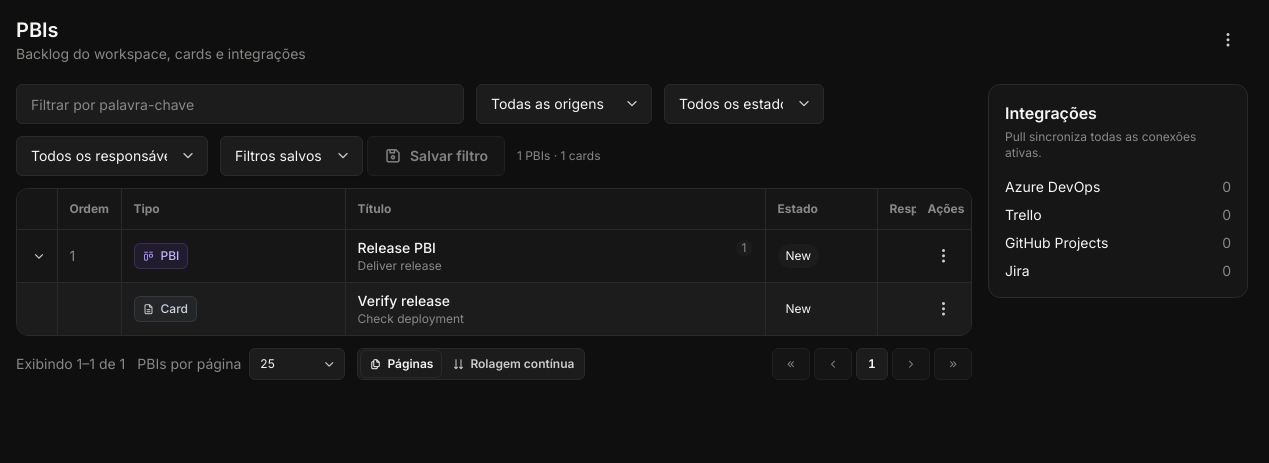
Test: PbiView › shows a hierarchical backlog and pulls every integration
Expected: the text "Release PBI" is shown, [358,238,436,258]
Step 1. Click the button named "Recolher Release PBI" → (39, 256), box [25,242,53,270]
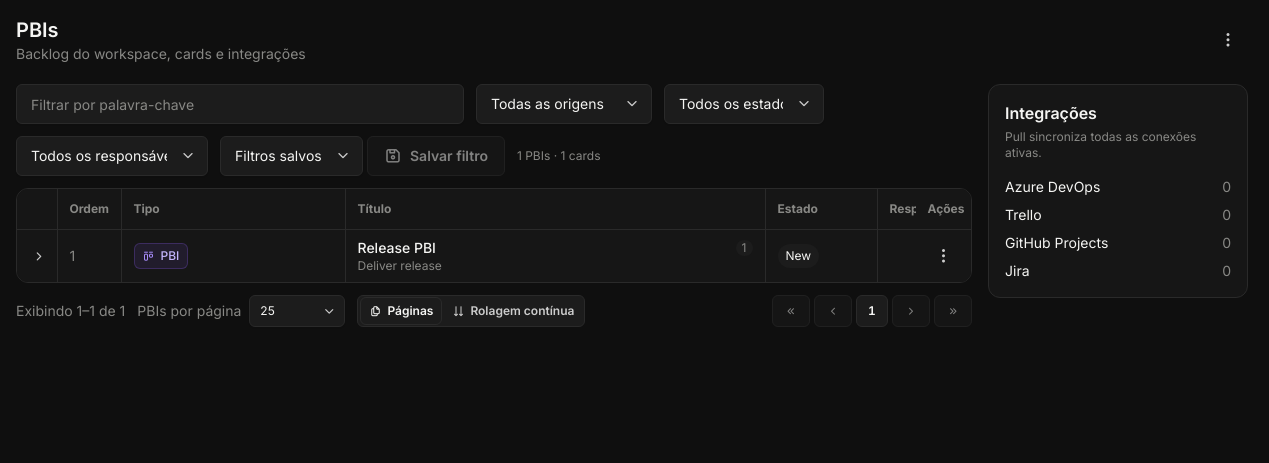
Result: the button "Verify release" is gone
Step 2. Click the button named "Expandir Release PBI" → (39, 256), box [25,242,53,270]
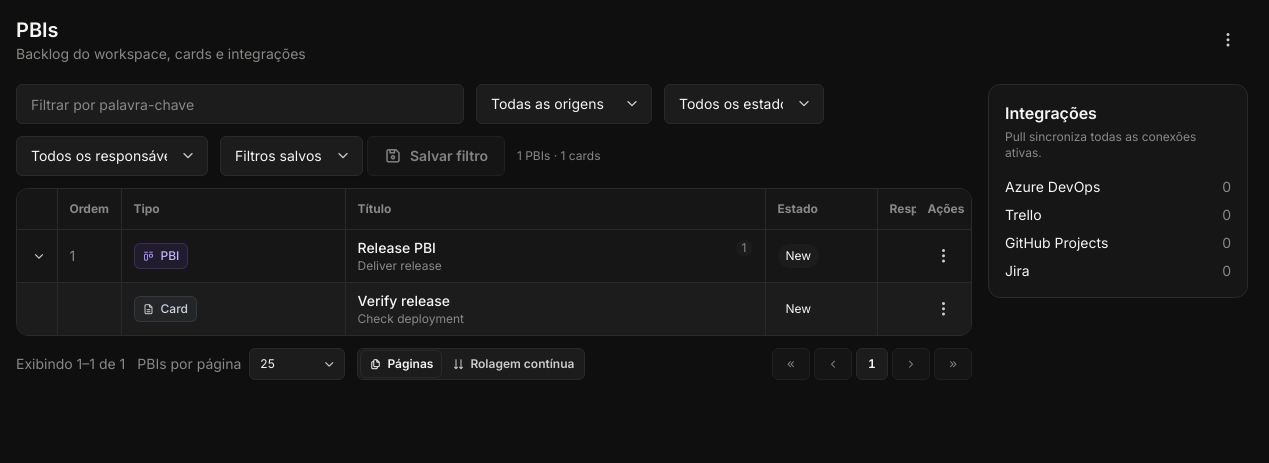
Result: the text "Verify release" is shown at [358,291,450,311]
Step 3. Click the button named "Ações" → (1228, 40), box [1208,20,1248,60]
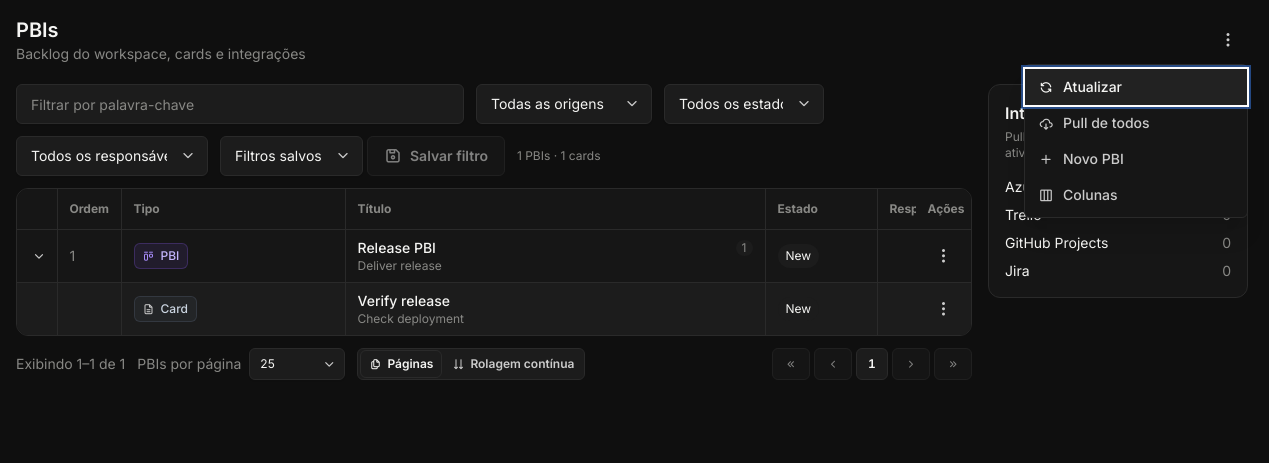
Step 4. Click the menu item "Pull de todos" → (1136, 123), box [1025,105,1247,141]
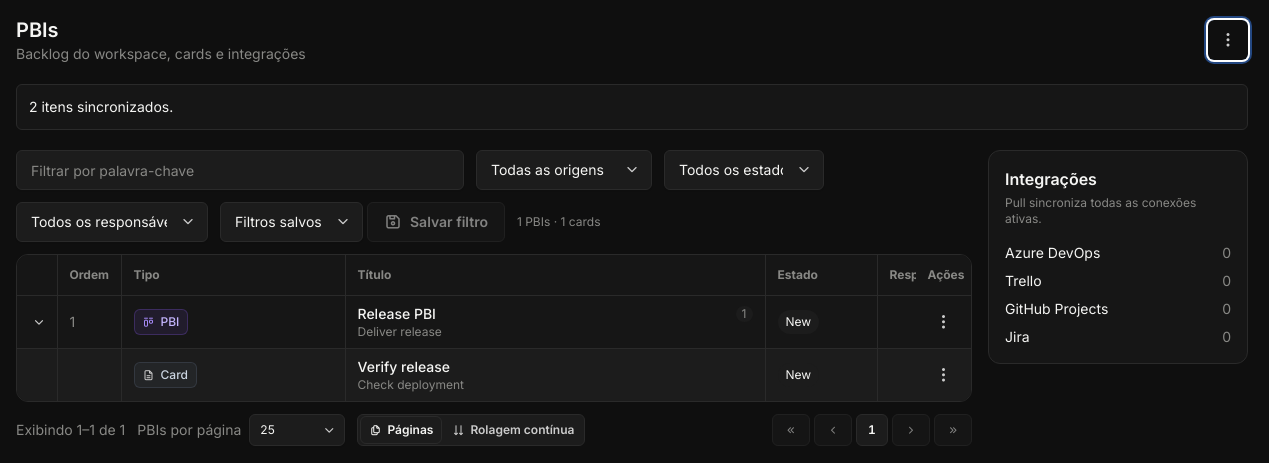
Result: the text "2 itens sincronizados." is shown at [16,84,1248,130]
